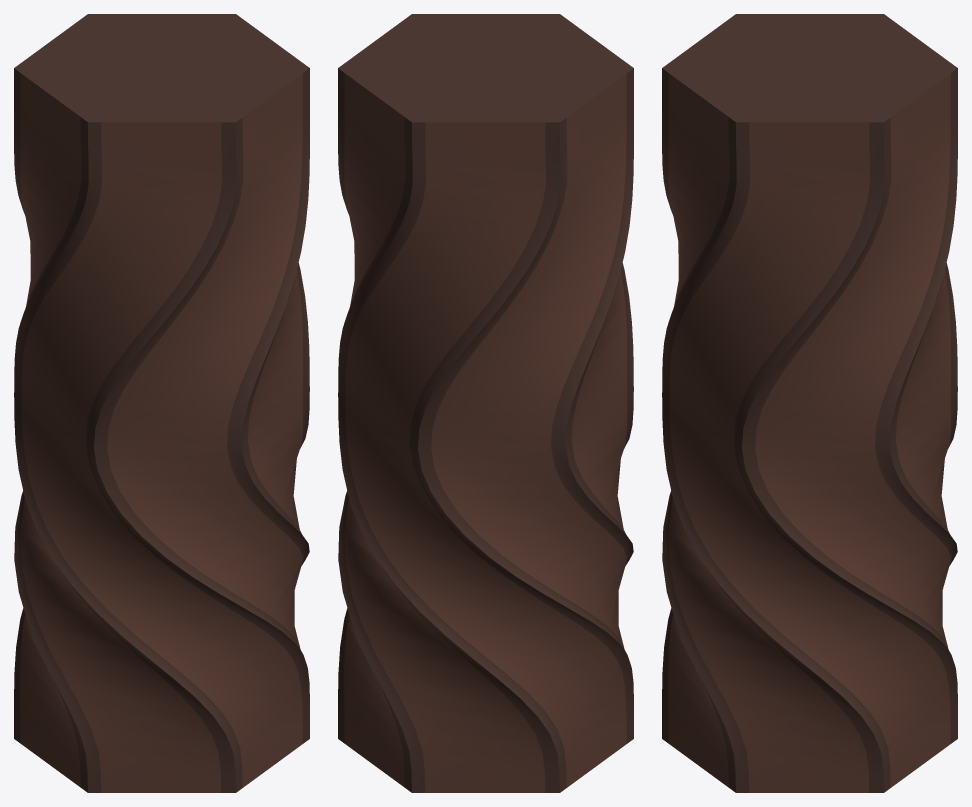
The model's file is trunk_block_1.glb.
3 views of the same model, side by side, from view 1: azimuth 30°, elevation 25°; view 2: azimuth 150°, elevation 25°; view 3: azimuth 270°, elevation 25° (orthographic).
Parts seen in each view (by area): view 1: trunk_block_1; view 2: trunk_block_1; view 3: trunk_block_1.
Boxes of the visible parts, x1,y1,x2,y2 form: trunk_block_1: (14, 14, 309, 792); trunk_block_1: (338, 14, 633, 792); trunk_block_1: (662, 14, 957, 792).
Bounding box in the file's own units: 0.3999 × 1 × 0.4.
